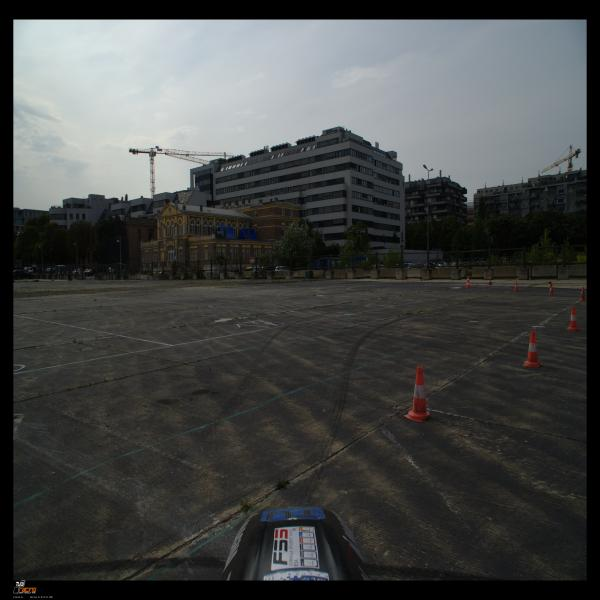large_orange_cone: (465, 275, 472, 288), (487, 274, 493, 285)
orange_cone: (404, 366, 430, 422), (523, 331, 542, 367), (565, 307, 582, 331), (578, 287, 586, 301), (548, 284, 555, 295), (514, 281, 520, 291)
yellow_cone: (548, 280, 551, 288)
